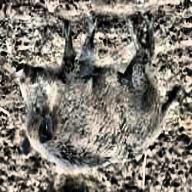boar: (16, 12, 181, 169)
